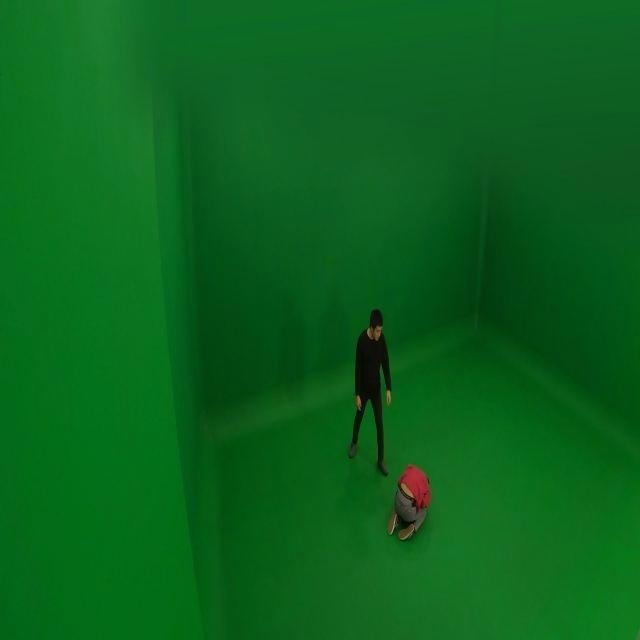fight: (348, 307, 435, 542)
